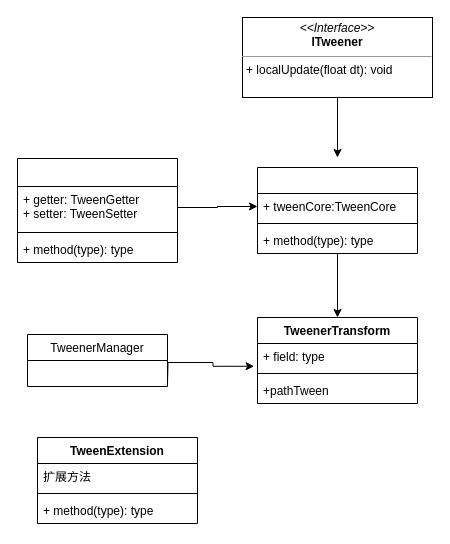
Some shapes in this 450 by 544 pixel diagram are drawn without their labels. Here are the shapes that lost their labels. From the top down, the box of each, then its label:
(16, 158, 178, 262): TweenCore
(256, 166, 418, 254): Tweener
